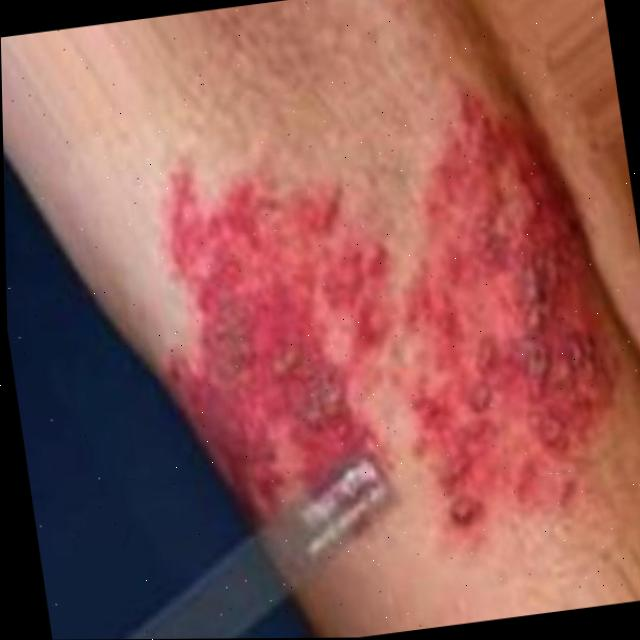Shingles: (380, 94, 640, 528), (144, 179, 396, 461)
